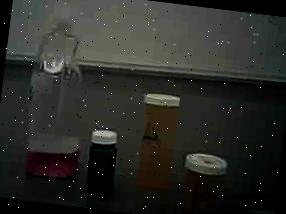Bottle A: (127, 82, 185, 196)
Bottle B: (176, 142, 246, 214)
Bottle C: (80, 120, 124, 205)
hazard: (12, 0, 102, 186)
